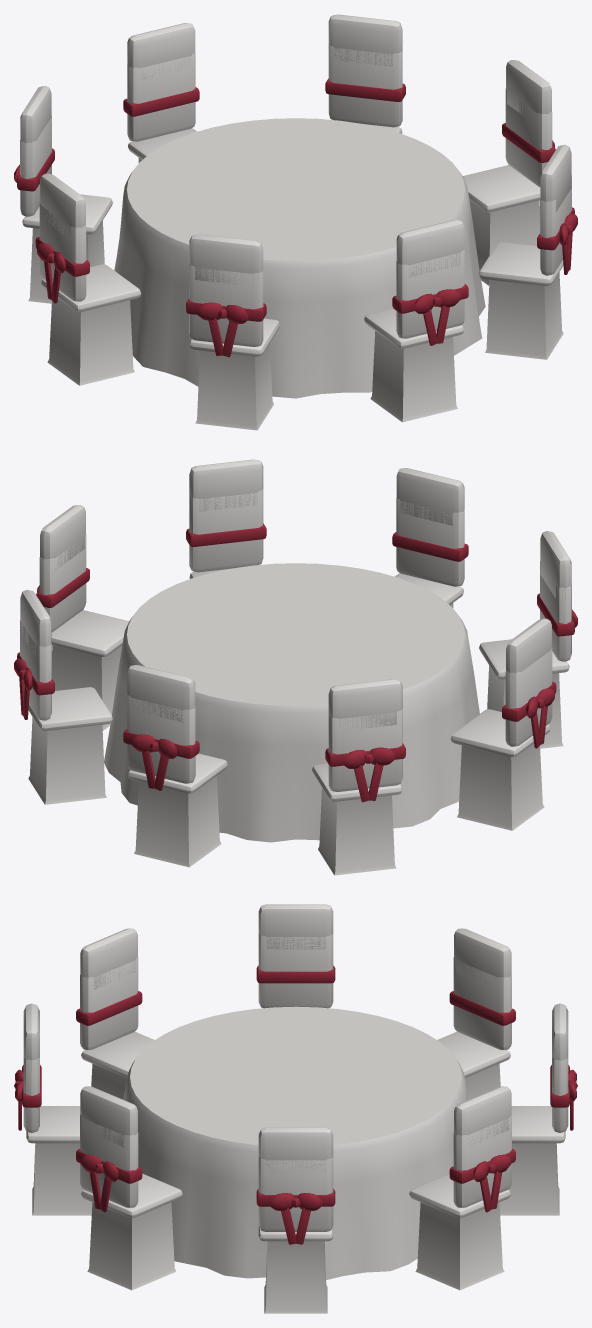
Rendered from table-round-set.glb.
3 views of the same model, one above another, from view 1: azimuth 30°, elevation 25°; view 2: azimuth 150°, elevation 25°; view 3: azimuth 270°, elevation 25° (orthographic).
Parts seen in each view (by area): view 1: table, chair_7, chair_6, chair_5, chair_8, chair_1, chair_3, chair_2, chair_4; view 2: table, chair_3, chair_4, chair_5, chair_2, chair_1, chair_7, chair_8, chair_6; view 3: table, chair_2, chair_8, chair_1, chair_4, chair_6, chair_5, chair_3, chair_7.
Boxes of the visible parts, x1,y1,x2,y2 form: table: (114, 118, 485, 398); chair_7: (364, 220, 468, 422); chair_6: (186, 234, 279, 430); chair_5: (35, 173, 141, 385); chair_8: (479, 145, 577, 359); chair_1: (463, 60, 555, 285); chair_3: (123, 23, 199, 162); chair_2: (325, 14, 405, 133); chair_4: (14, 86, 112, 303); table: (104, 563, 479, 842); chair_3: (123, 665, 227, 867); chair_4: (312, 679, 405, 875); chair_5: (450, 618, 556, 830); chair_2: (14, 590, 112, 804); chair_1: (36, 505, 128, 730); chair_7: (392, 468, 468, 607); chair_8: (186, 459, 266, 578); chair_6: (479, 531, 577, 748); table: (123, 1006, 467, 1279); chair_2: (409, 1086, 515, 1290); chair_8: (76, 1086, 182, 1290); chair_1: (256, 1127, 335, 1313); chair_4: (437, 928, 515, 1099); chair_6: (76, 928, 154, 1099); chair_5: (256, 904, 335, 1008); chair_3: (499, 1003, 577, 1215); chair_7: (14, 1003, 92, 1215).
Size of the model in its own units: 3.16 by 1.15 by 3.16.
